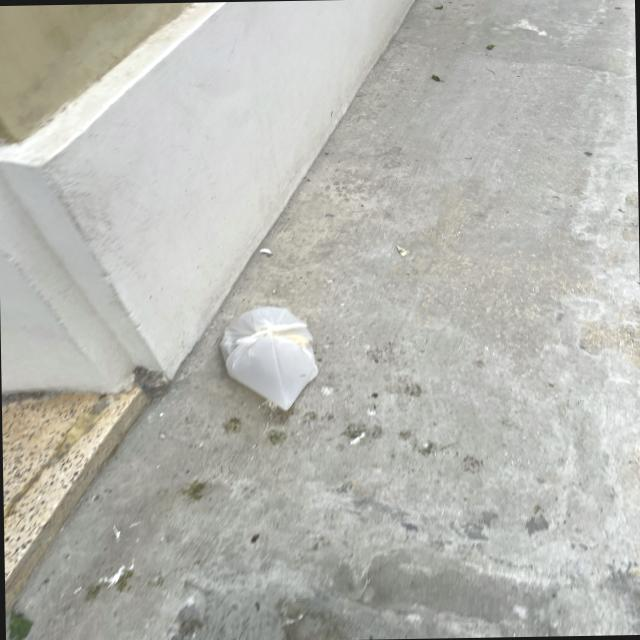white_bag: (212, 298, 334, 436)
